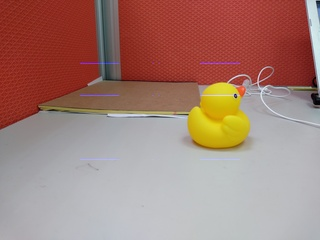duck: (181, 78, 254, 154)
